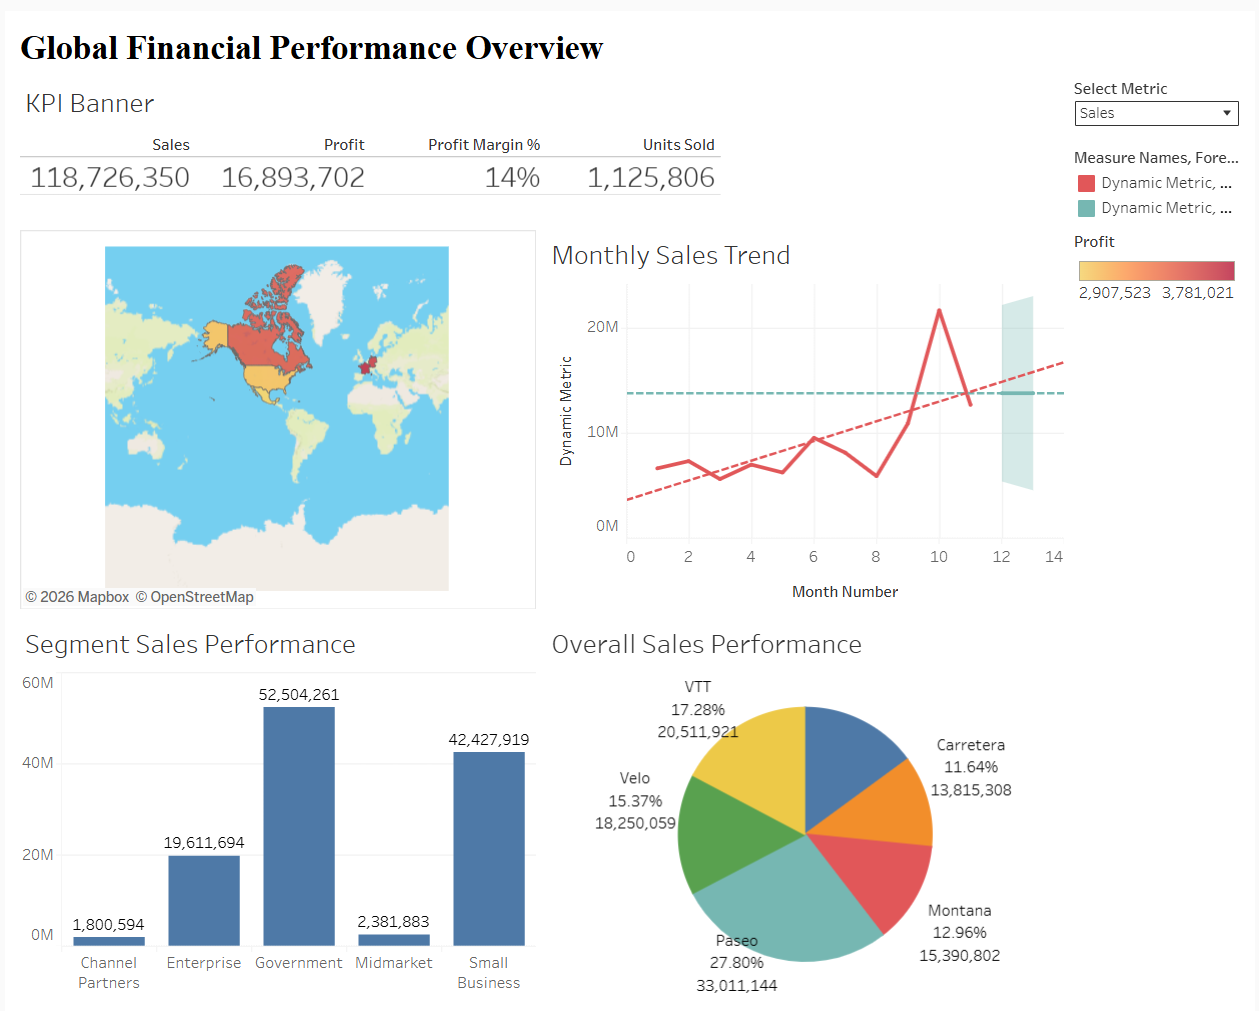

This screenshot's page, from the dashboard's own definition file:
{"tool":"tableau","page":{"name":"Global Performance","canvas":[1000,800],"ordinal":0},"visuals":[{"type":"title","box":[8,8,984,48]},{"type":"worksheet","title":"KPI Banner","mark":"Automatic","box":[8,56,843,120.9]},{"type":"parameter","param":"[Parameters].[Parameter 1]","box":[851,56,141,56]},{"type":"legend","title":"Monthly Trend","param":"[federated.0fqsty20vg0jmf16vdmaz0uf39rg].[:Measure Names]\n[federated.0fqsty20vg0","box":[851,112,141,72]},{"type":"worksheet","title":"Map","mark":"Automatic","box":[8,176.9,421.5,307.5]},{"type":"worksheet","title":"Monthly Trend","mark":"Automatic","rows":["Calculation_479351936851124227"],"cols":["Month Number"],"box":[429.5,176.9,421.5,307.5]},{"type":"legend","title":"Map","param":"[federated.0fqsty20vg0jmf16vdmaz0uf39rg].[sum:Profit:qk]","box":[851,184,141,73]},{"type":"worksheet","title":"Segment Performance","mark":"Automatic","rows":["Calculation_479351936851124227"],"cols":["Segment"],"box":[8,484.5,421.5,307.5]},{"type":"worksheet","title":"Overall Performance","mark":"Pie","box":[429.5,484.5,421.5,307.5]}]}

Visuals, with their boxes in screenshot pixels (x1, y1, x2, y2), scaled from the page's 1000x800 canvas onto the 1259x1011 screenshot:
title: bbox=(10, 10, 1249, 71)
"KPI Banner" worksheet: bbox=(10, 71, 1071, 224)
parameter: bbox=(1071, 71, 1249, 142)
"Monthly Trend" legend: bbox=(1071, 142, 1249, 233)
"Map" worksheet: bbox=(10, 224, 541, 612)
"Monthly Trend" worksheet: bbox=(541, 224, 1071, 612)
"Map" legend: bbox=(1071, 233, 1249, 325)
"Segment Performance" worksheet: bbox=(10, 612, 541, 1001)
"Overall Performance" worksheet (Pie marks): bbox=(541, 612, 1071, 1001)
